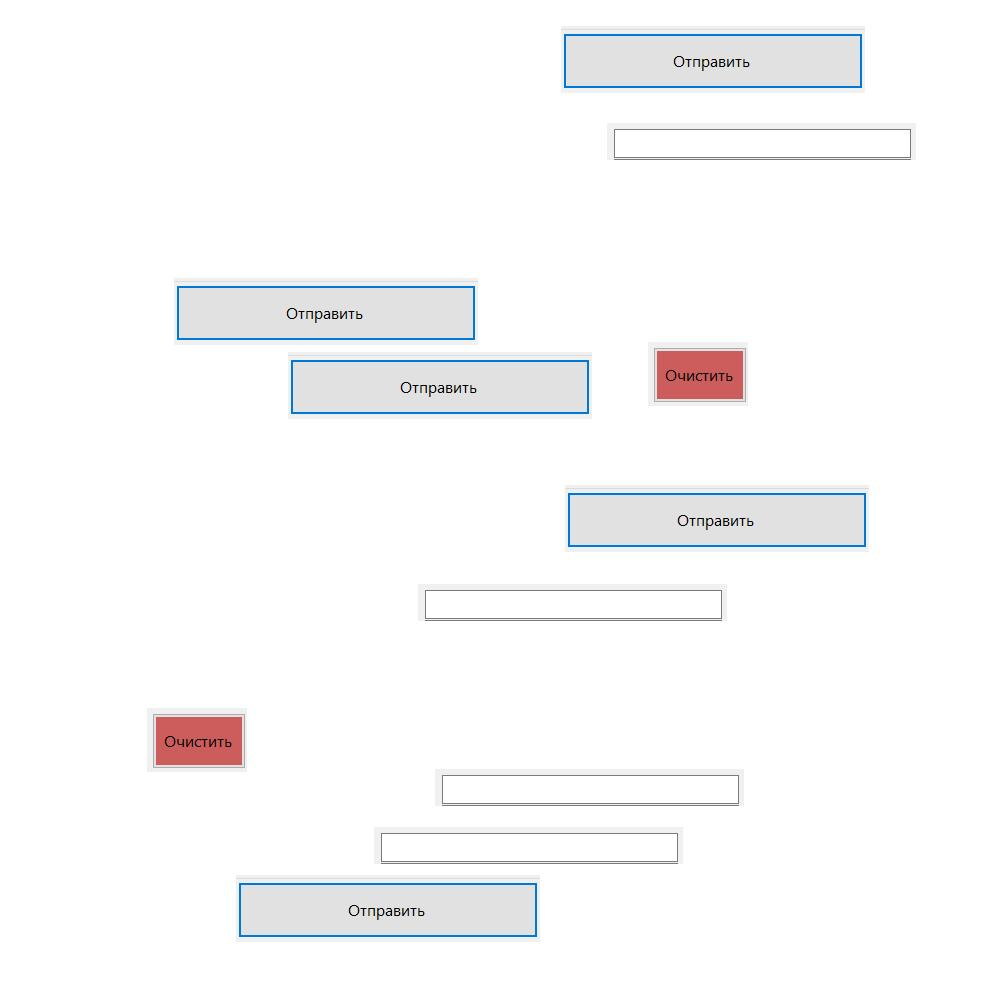Button: (288, 352, 592, 419), (236, 875, 540, 942), (565, 485, 869, 552), (174, 278, 478, 345), (561, 26, 865, 93), (147, 708, 247, 772), (648, 342, 748, 406)
EditText-: (418, 584, 727, 621), (374, 827, 683, 864), (435, 769, 744, 806), (607, 123, 916, 160)
